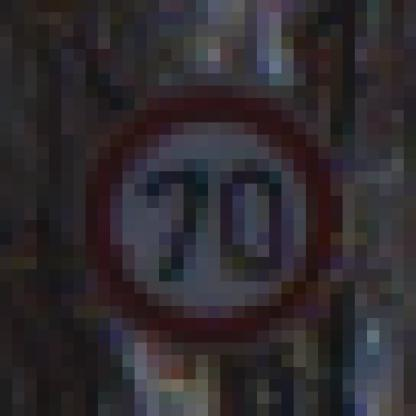Speed Limit 70: (91, 91, 333, 338)
